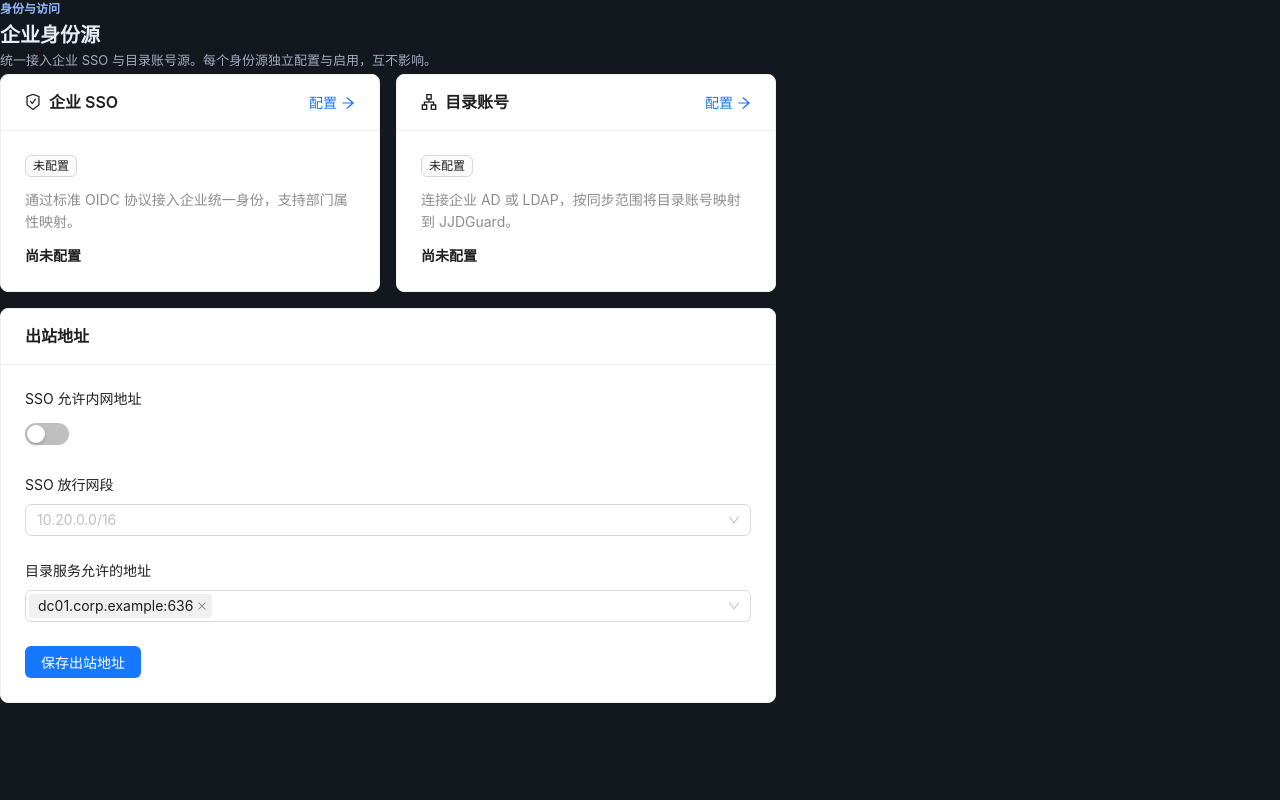
Test: 企业身份源：出站地址 › 拦内网时打开要二次确认，保存写入系统设置
This screenshot has width=1280, height=800.
Later steps or results of the test are not shown.
Expected: the text "dc01.corp.example:636" is shown, [38, 595, 193, 617]
What coordinates should you click on to do the following:
click the switch named "SSO 允许内网地址"
I would click on:
 (47, 434)
Its box is [25, 423, 69, 445].
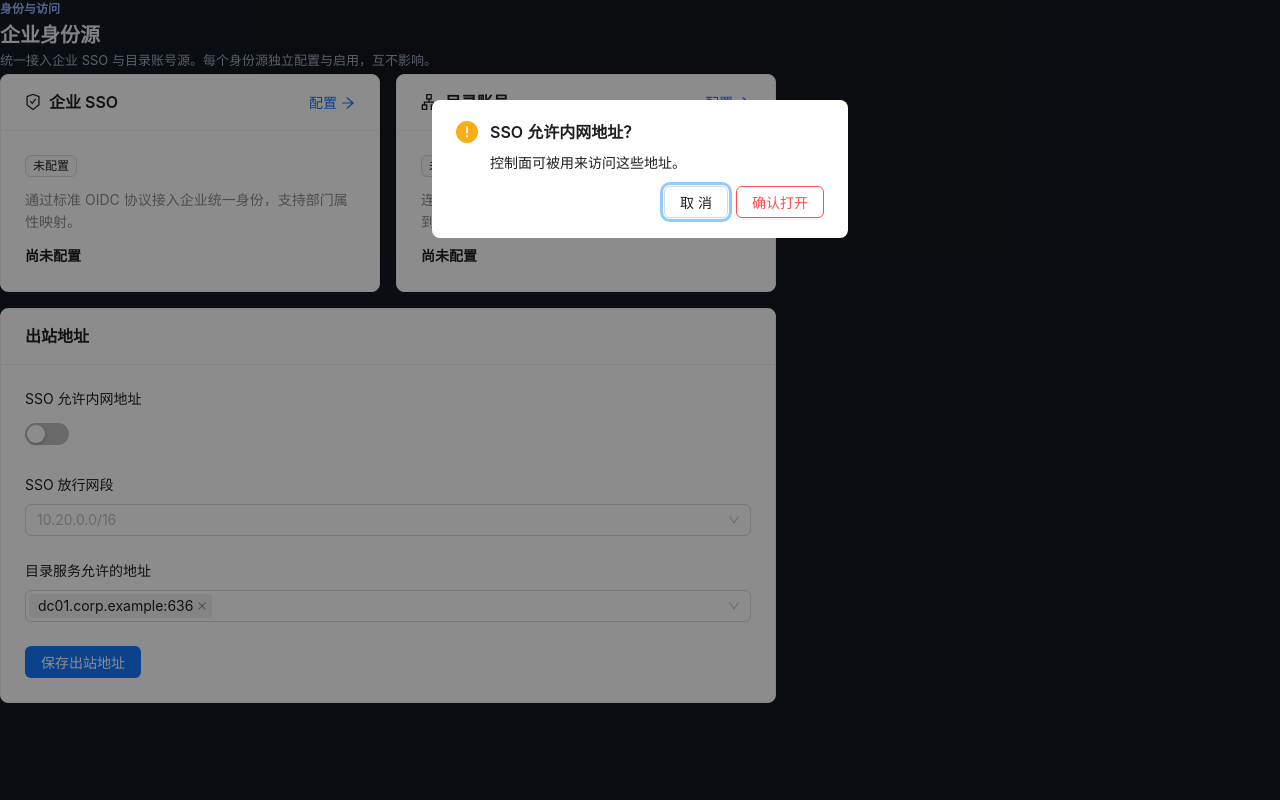
What coordinates should you click on to do the following:
click the button "确认打开"
I would click on:
 (780, 202)
Its box is [736, 186, 824, 218].
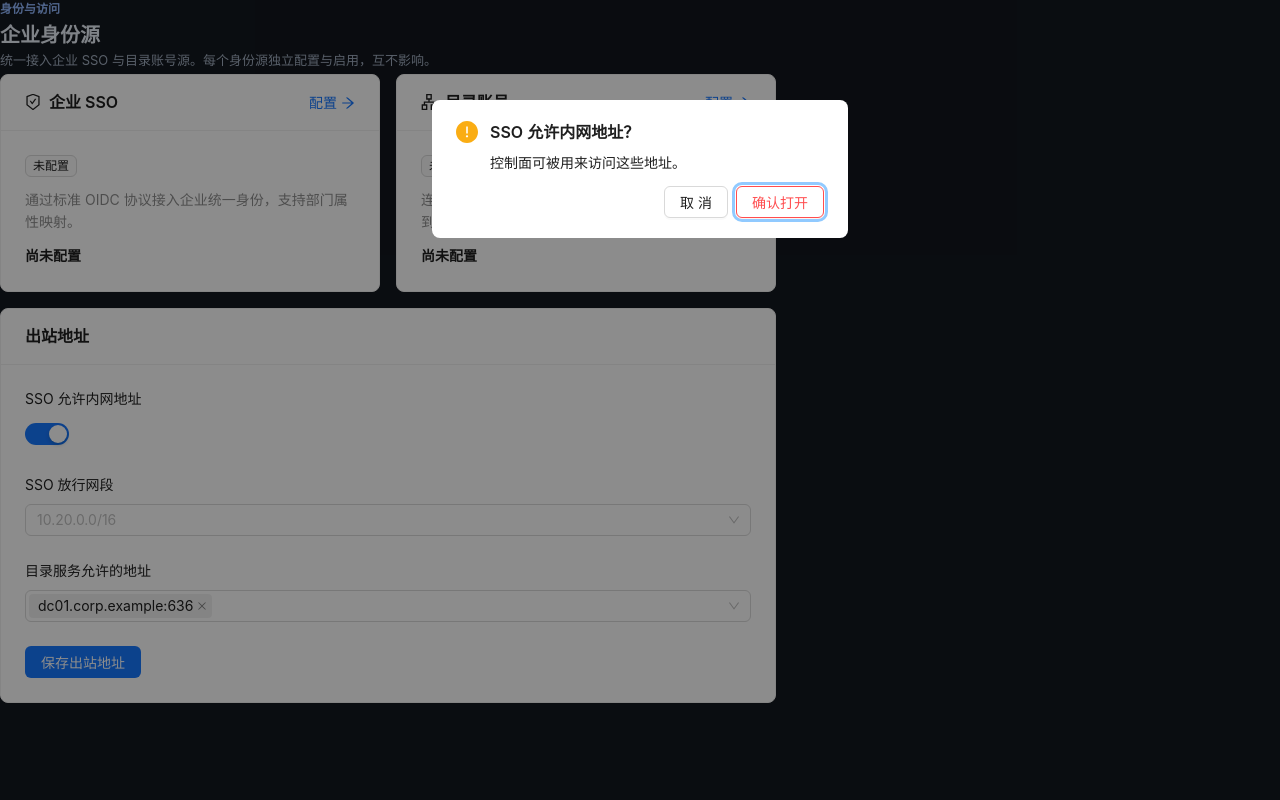
Expected: the switch named "SSO 允许内网地址" is checked, [25, 423, 69, 445]
